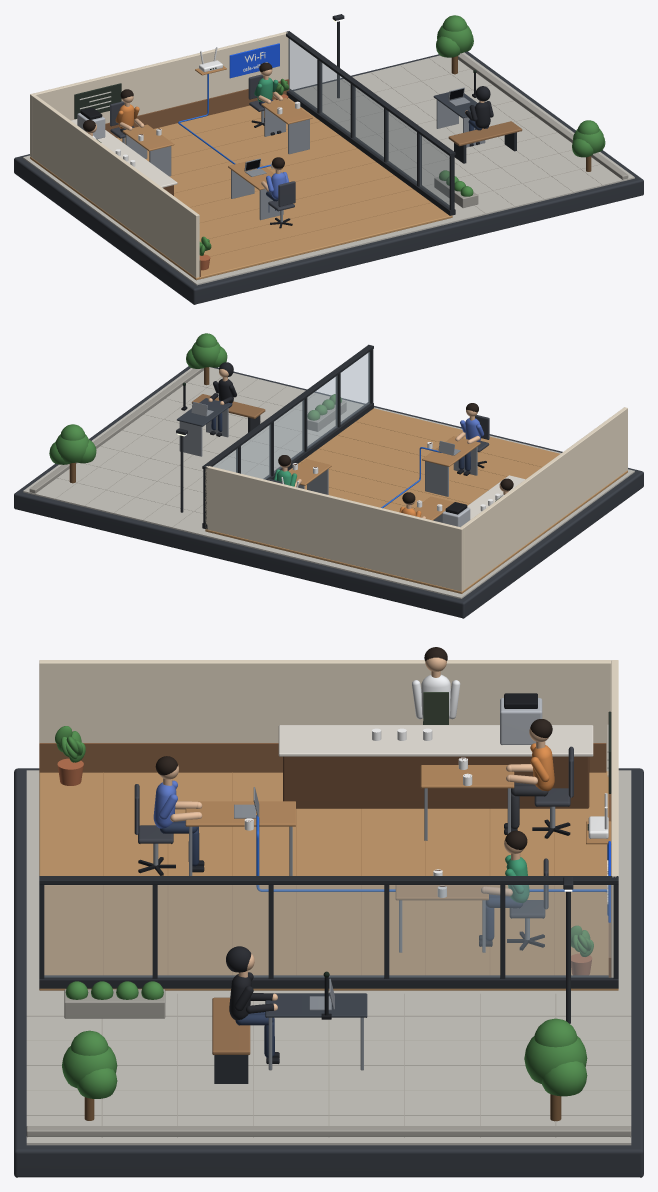
The model's file is wifi-cafe.glb.
3 renders of one model, top to bottom at view 1: azimuth 30°, elevation 25°; view 2: azimuth 150°, elevation 25°; view 3: azimuth 270°, elevation 25°, orthographic. The views are drawn at different scales.
Parts seen in each view (by area): view 1: Static, Glass; view 2: Static, Glass; view 3: Static, Glass, Part_Lan.
Part boxes in pixels (x1,y1,x2,y2): Static: (14, 14, 643, 304); Glass: (288, 38, 449, 207); Static: (14, 333, 643, 618); Glass: (213, 352, 369, 479); Static: (14, 647, 643, 1177); Glass: (44, 885, 613, 977); Part_Lan: (256, 815, 608, 915).
Bounding box in the file's own units: 1.44 × 0.3032 × 1.
